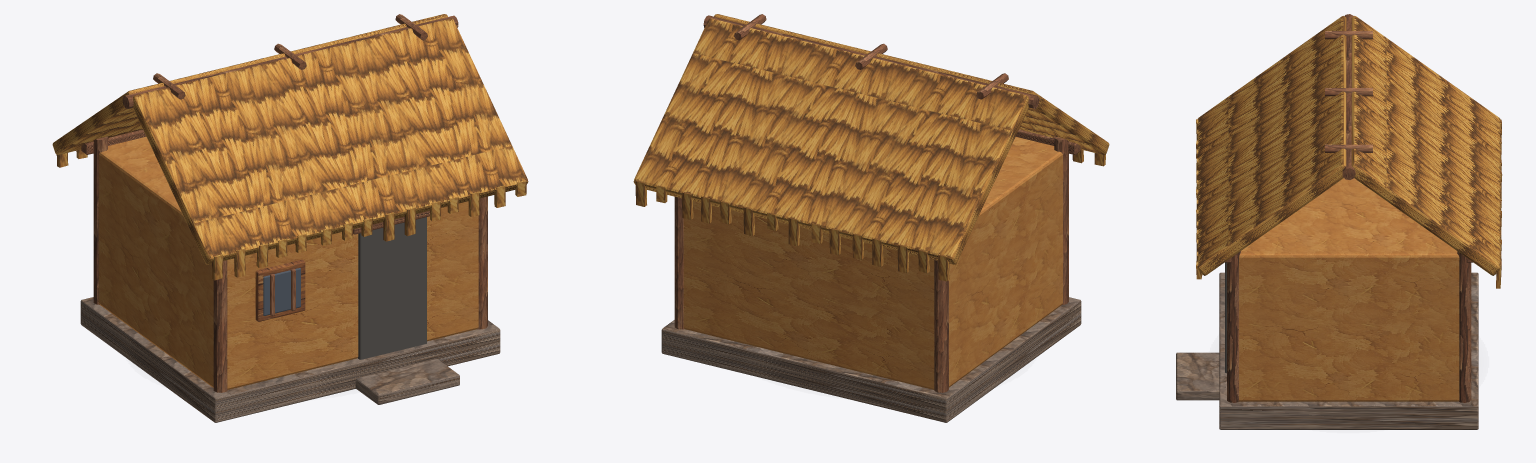
The model's file is hut.glb.
The picture shows the model from 3 angles, left to right: view 1: azimuth 30°, elevation 25°; view 2: azimuth 150°, elevation 25°; view 3: azimuth 270°, elevation 25°; orthographic projection. The views are drawn at different scales.
Visible parts, largest first — view 1: roof, walls, footing, door, roof.001, step, post, post.002, winFrame, winDark, post.001, ridge; view 2: roof.001, walls, footing, roof, post.001, post.003, post, ridge; view 3: walls, roof, roof.001, footing, step, post.003, post.002, ridge, ridgeTie.002.
Part boxes in pixels (<box>): roof: <box>133,18,528,264</box>; walls: <box>98,137,478,389</box>; footing: <box>80,297,500,422</box>; door: <box>358,217,426,359</box>; roof.001: <box>52,14,447,154</box>; step: <box>355,359,459,404</box>; post: <box>213,260,227,392</box>; post.002: <box>477,196,487,329</box>; winFrame: <box>255,259,305,321</box>; winDark: <box>263,268,300,315</box>; post.001: <box>93,136,107,304</box>; ridge: <box>122,15,458,108</box>; roof.001: <box>633,18,1028,264</box>; walls: <box>683,137,1062,389</box>; footing: <box>661,297,1081,422</box>; roof: <box>714,14,1109,154</box>; post.001: <box>934,260,948,392</box>; post.003: <box>674,196,684,329</box>; post: <box>1054,136,1068,304</box>; ridge: <box>703,15,1039,108</box>; walls: <box>1239,178,1459,401</box>; roof: <box>1197,16,1346,275</box>; roof.001: <box>1351,16,1500,275</box>; footing: <box>1219,272,1478,429</box>; step: <box>1176,352,1219,400</box>; post.003: <box>1457,251,1471,402</box>; post.002: <box>1227,251,1240,402</box>; ridge: <box>1342,14,1355,179</box>; ridgeTie.002: <box>1325,144,1372,152</box>.
Size of the model in its own units: 4.3 by 3.16 by 3.6.
Materials: 11 (9 with a texture image).
